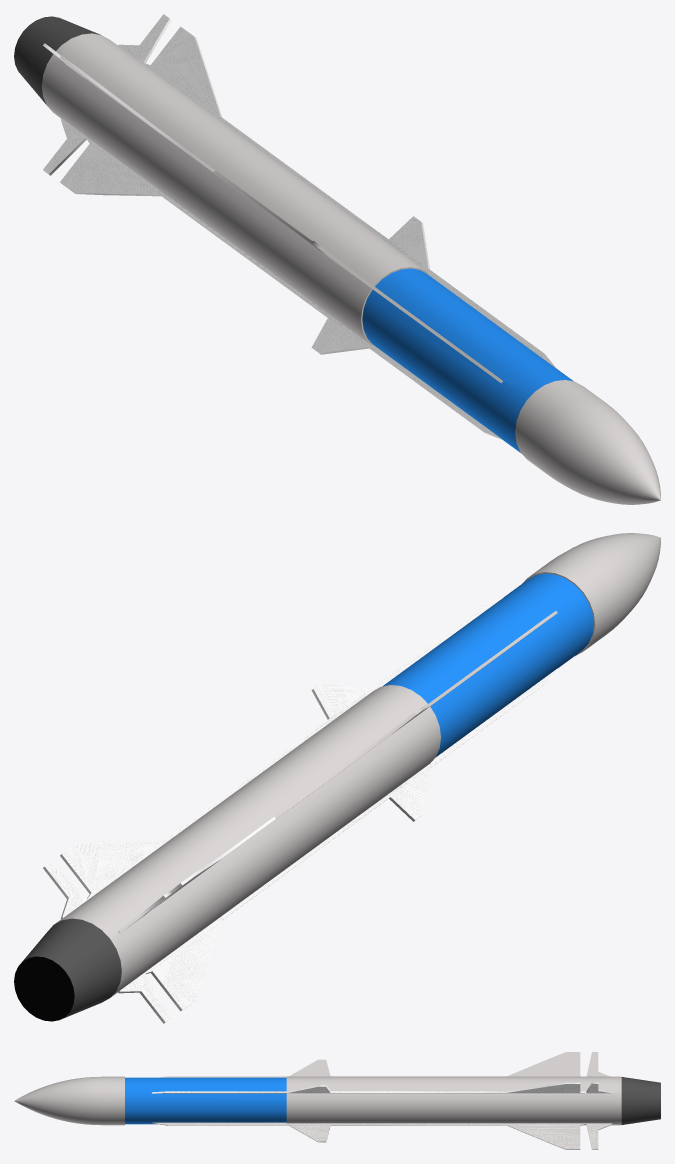
File: miss.dae
The picture shows the model from 3 angles, top to bottom: view 1: azimuth 30°, elevation 25°; view 2: azimuth 150°, elevation 25°; view 3: azimuth 270°, elevation 25°; orthographic projection. The views are drawn at different scales.
Parts seen in each view (by area): view 1: SketchUp (×8); view 2: SketchUp (×9); view 3: SketchUp (×8).
Boxes of the visible parts, x1,y1,x2,y2 form: SketchUp (×8): [14, 14, 660, 504]; SketchUp (×9): [14, 533, 660, 1023]; SketchUp (×8): [14, 1052, 660, 1149].
Size of the model in its own units: 18.1 by 157 by 18.1.
